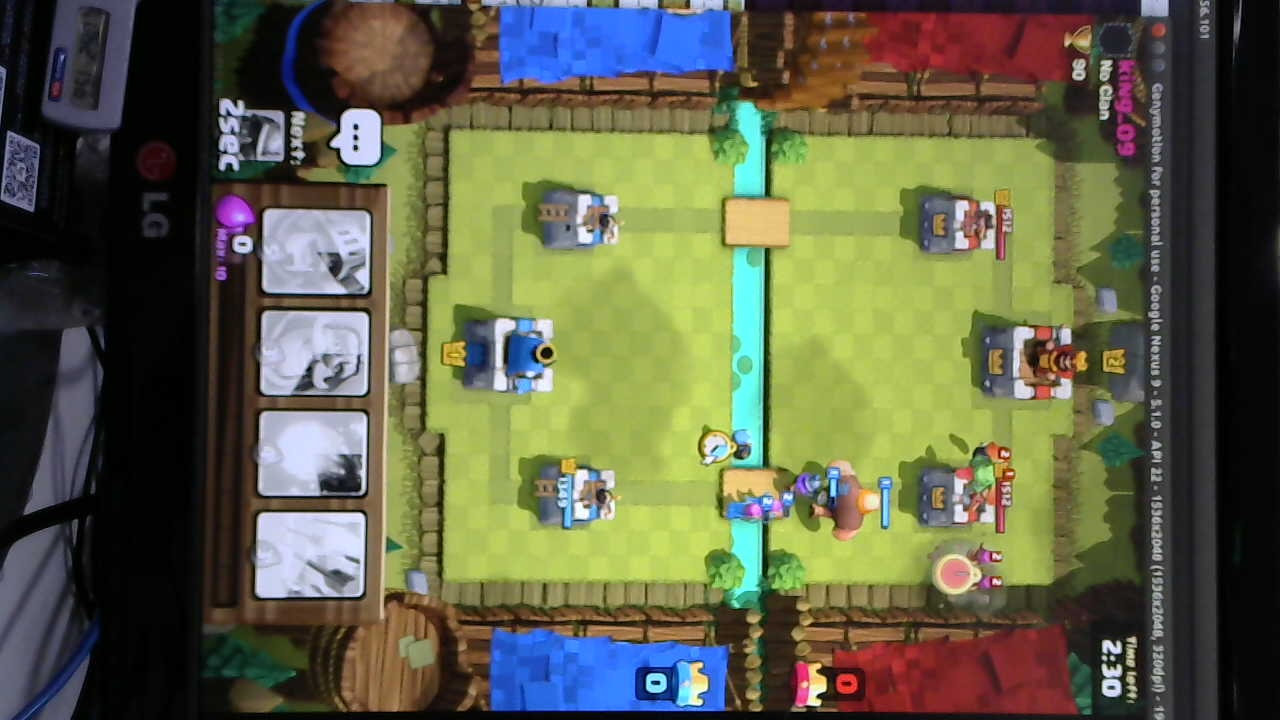archers: (715, 487, 800, 530), (968, 539, 1006, 600)
arena: (545, 191, 625, 254), (543, 464, 620, 528)
bomb: (961, 435, 1012, 470), (720, 424, 759, 467)
dragon: (956, 459, 1001, 511)
earena: (920, 194, 999, 259), (922, 466, 998, 531)
eking: (971, 322, 1087, 405)
giant: (825, 455, 880, 546)
king: (457, 311, 559, 393)
musketeer: (785, 471, 836, 500)
